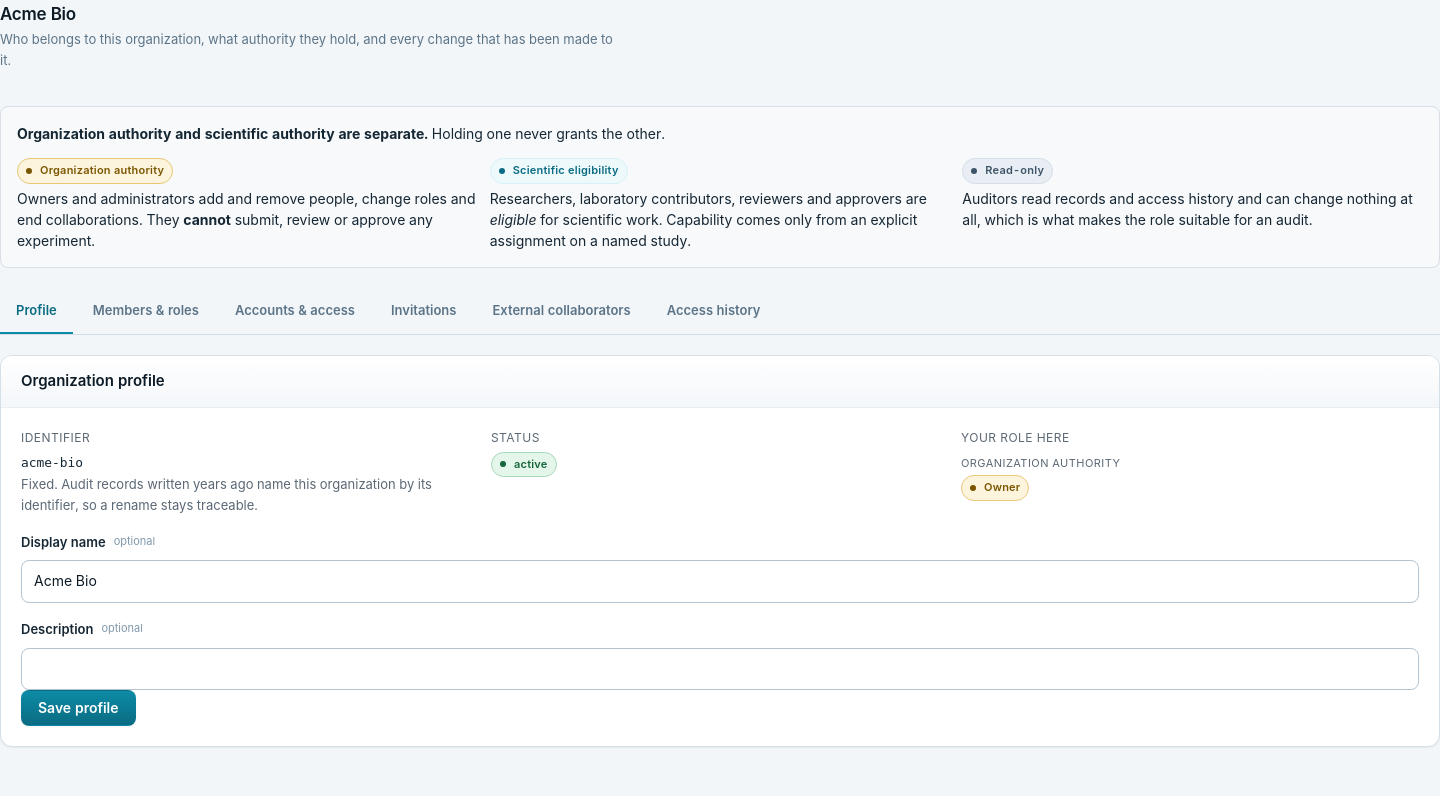
Test case: the last active owner › explains why the owner cannot be removed when there is only one
Step 1. Click the tab "Members & roles" → (146, 311), box [77, 288, 215, 334]
(page scrolled)
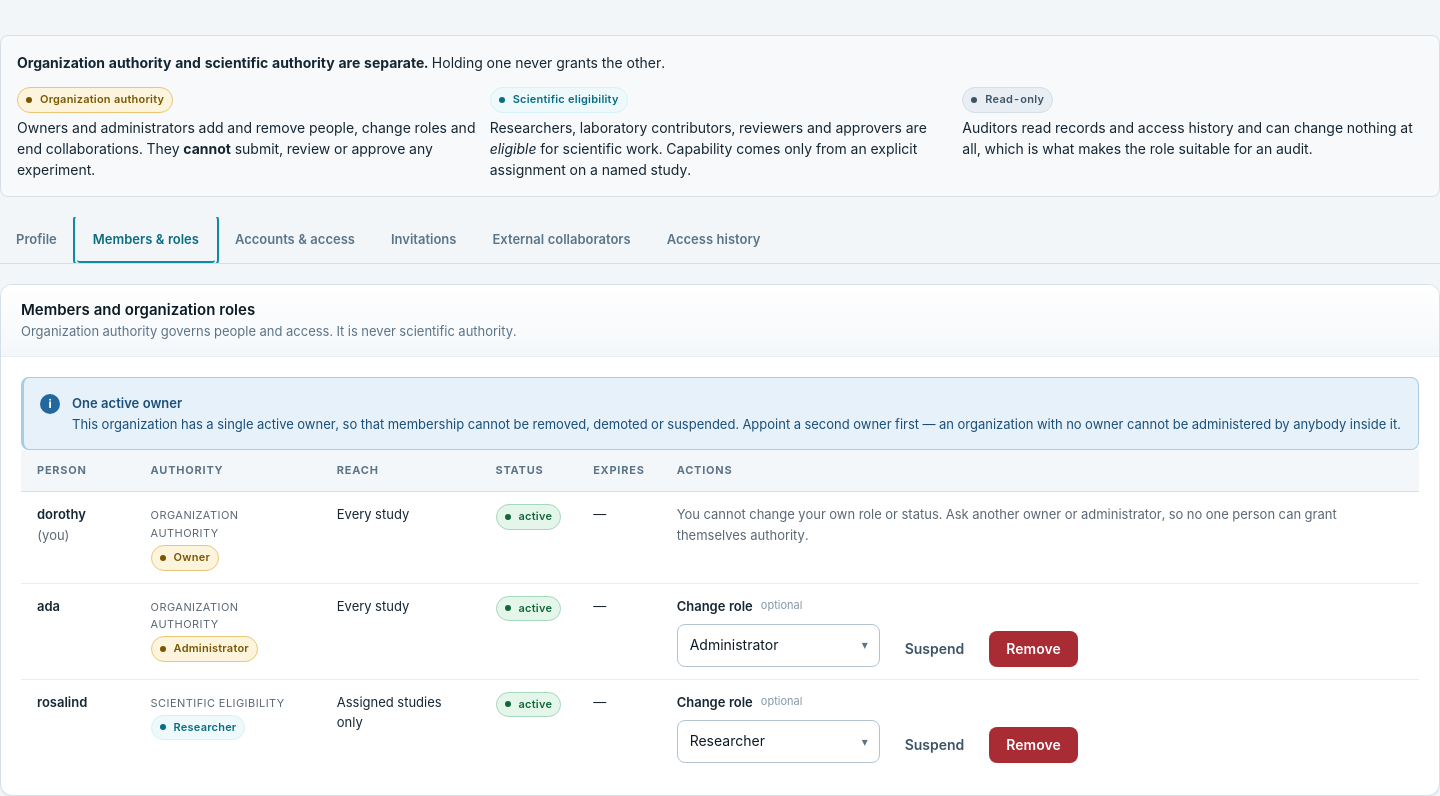
Expected: the text "One active owner" is shown, [72, 395, 182, 411]
Expected: the text "Appoint a second owner" is shown, [72, 416, 1401, 432]
Expected: the button with test id "remove-rosalind" is enabled, [989, 727, 1078, 763]
